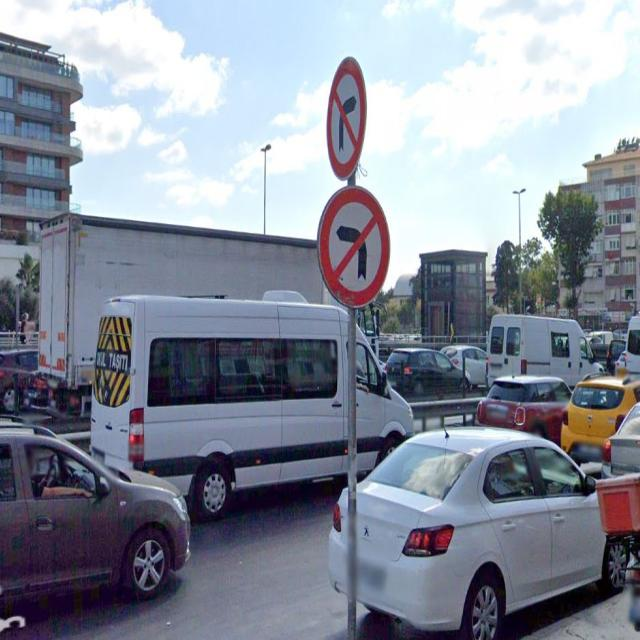sagadonulmez: (328, 58, 367, 179)
soladonulmez: (318, 186, 391, 308)
